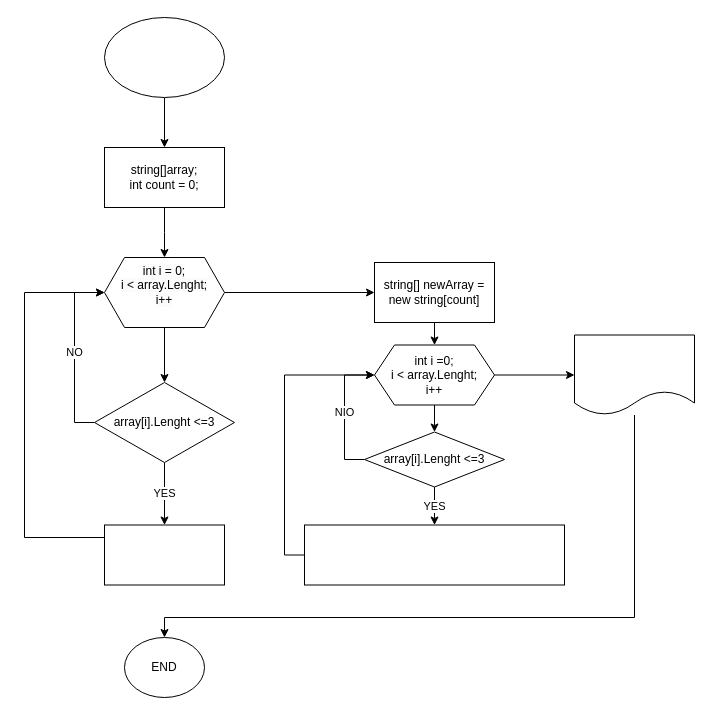
The diagram is 712 pixels wide and 715 high, and some of its shapes have lost their labels. Here are the shapes that lost their labels. From the top down, the centre of each, then its label:
(x=164, y=57): Start
(x=634, y=374): string[]newArrray
(x=164, y=554): count++
(x=434, y=554): newArray[newArray.Lenght - count] = array[i]; count --
